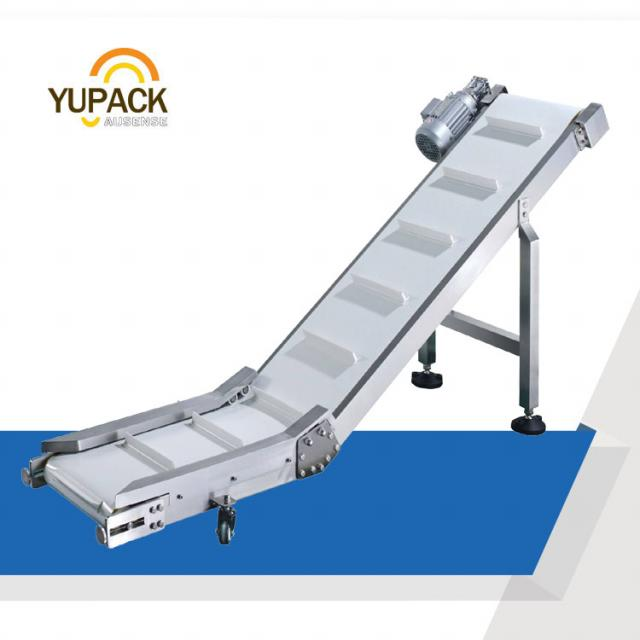Convoyeur: (14, 71, 616, 553)
